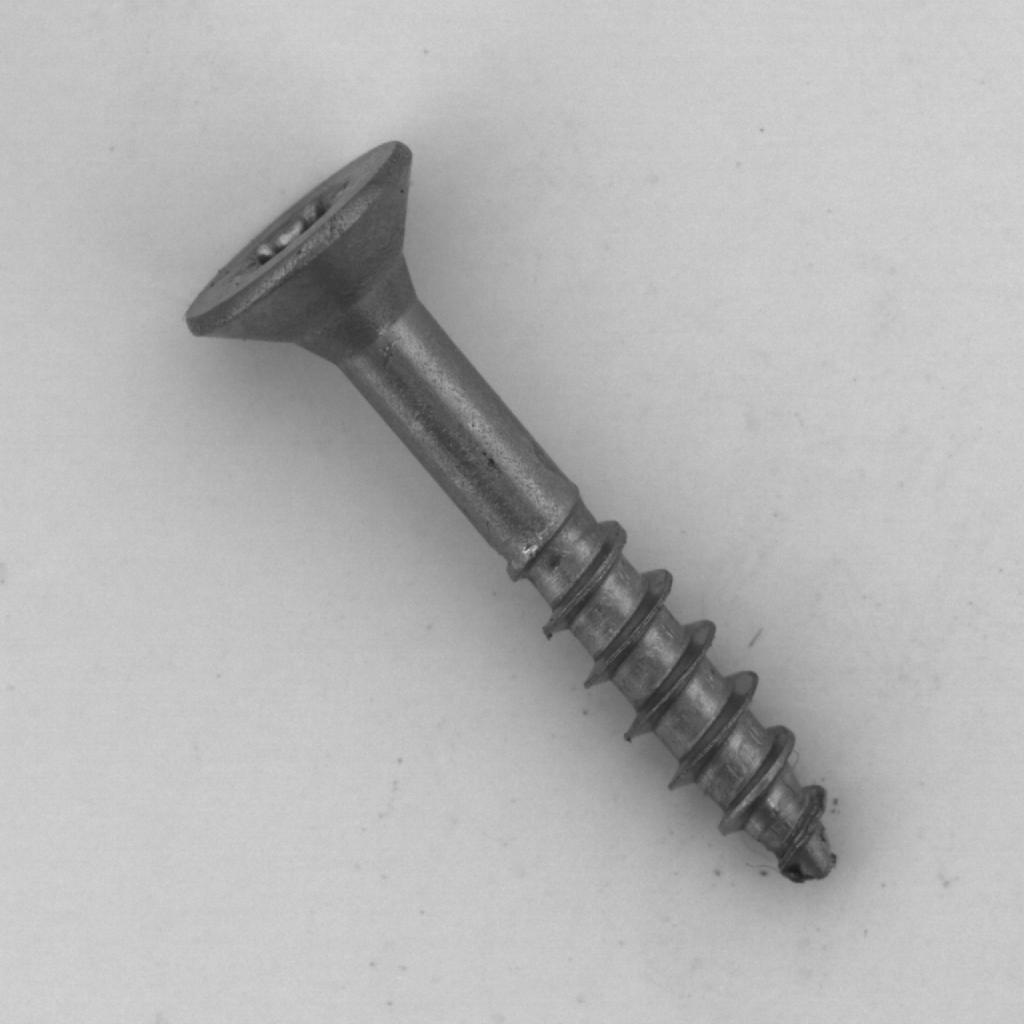manipulated_front: (104, 111, 898, 922)
